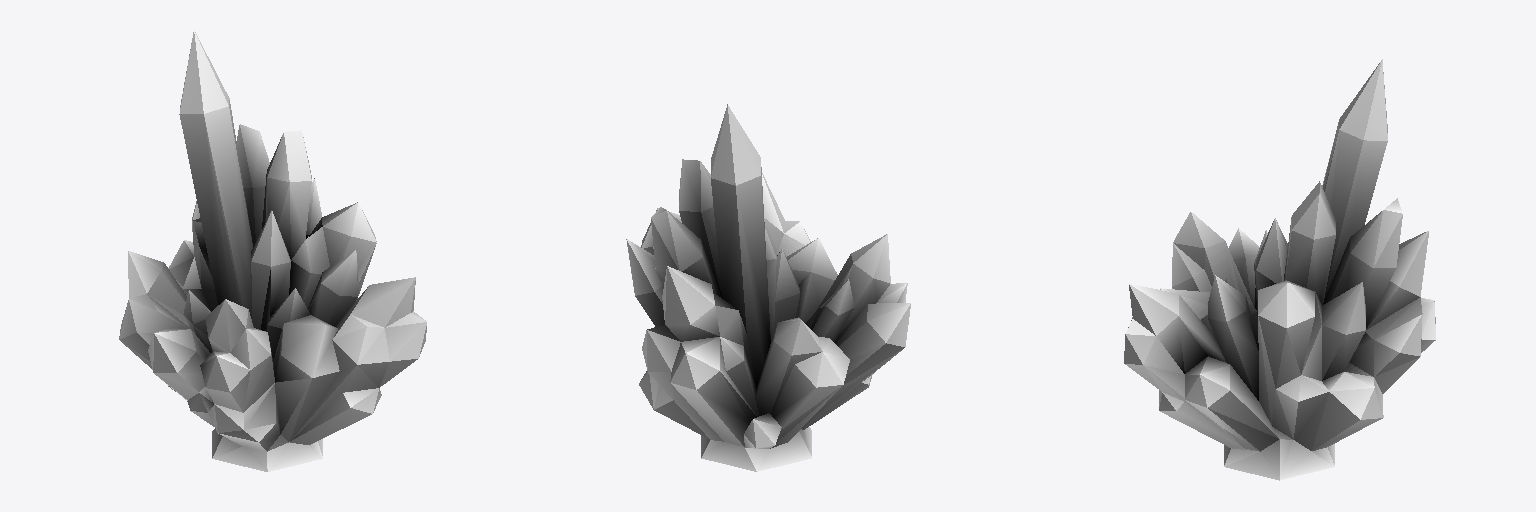
3 renders of one model, left to right at view 1: azimuth 30°, elevation 25°; view 2: azimuth 150°, elevation 25°; view 3: azimuth 270°, elevation 25°, orthographic.
Size of the model in its own units: 0.6682 by 0.9983 by 0.7366.
1 materials, 1 textured.